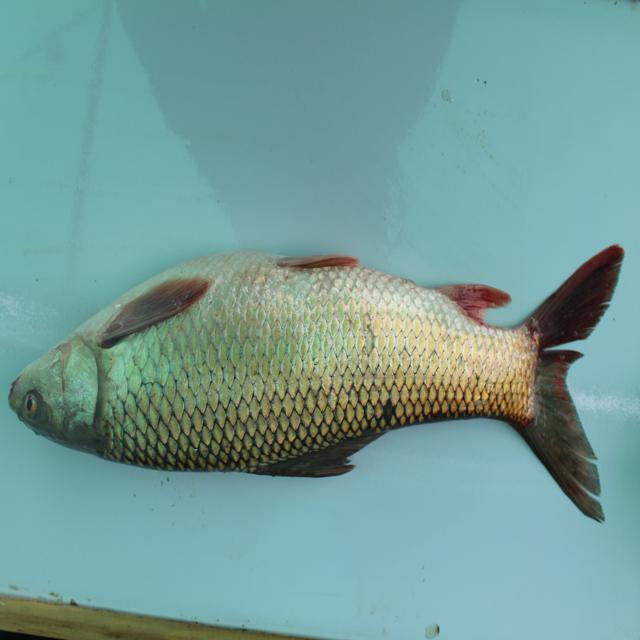Mori: (3, 237, 635, 524)
